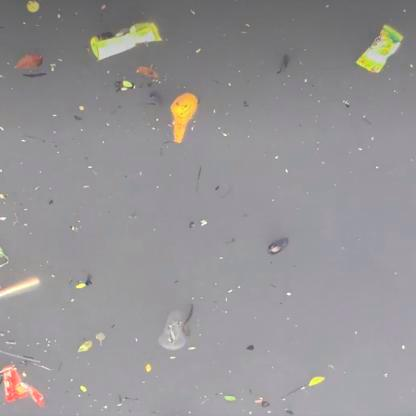Trash: (85, 18, 167, 66), (351, 21, 407, 80), (1, 361, 47, 413), (154, 305, 193, 358)
